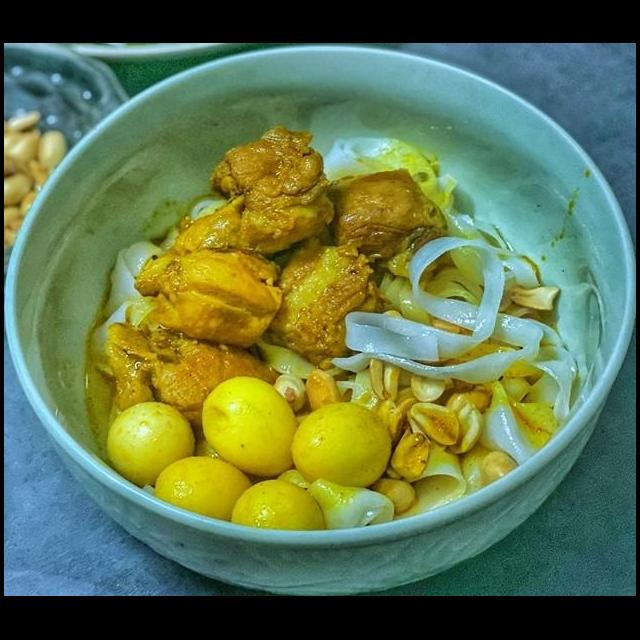mi: (315, 230, 582, 534), (317, 134, 517, 258), (84, 220, 184, 382), (272, 466, 400, 534)
thit heo: (134, 190, 290, 352), (100, 318, 280, 432), (248, 234, 387, 374), (203, 122, 339, 258), (318, 164, 453, 284)
trung: (199, 372, 303, 480), (288, 399, 395, 494), (103, 398, 198, 492), (150, 452, 257, 526), (228, 476, 330, 544)
